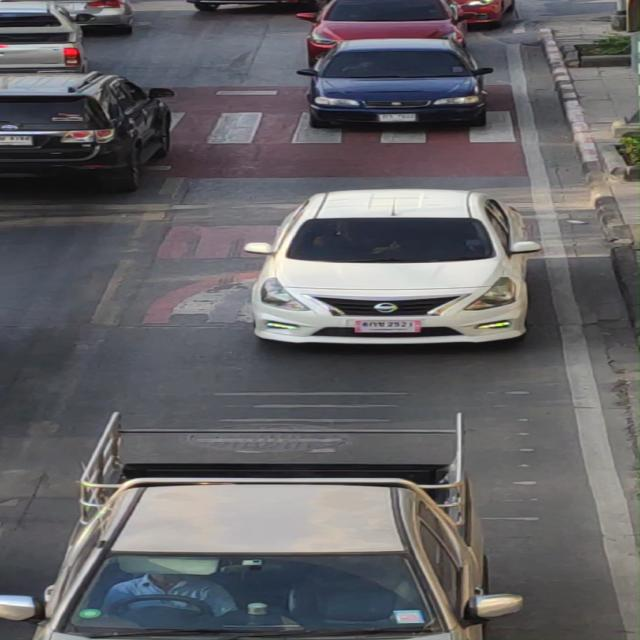car: (0, 403, 543, 640), (194, 190, 560, 356), (308, 32, 536, 134)
